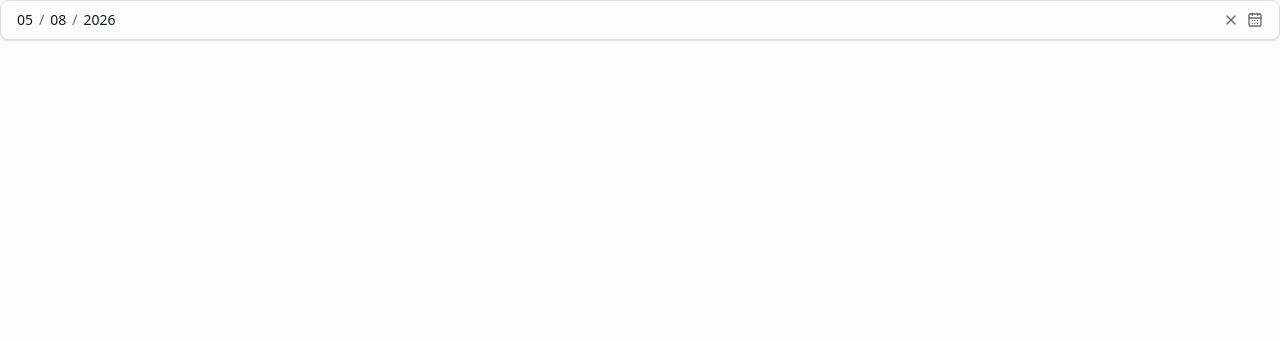
Test case: DateField calendar › picks a day from the calendar
This screenshot has width=1280, height=341.
What coordinates should you click on to do the following:
click the button named "Open the calendar"
I would click on:
 (1255, 20)
Its box is [1243,8,1267,32].
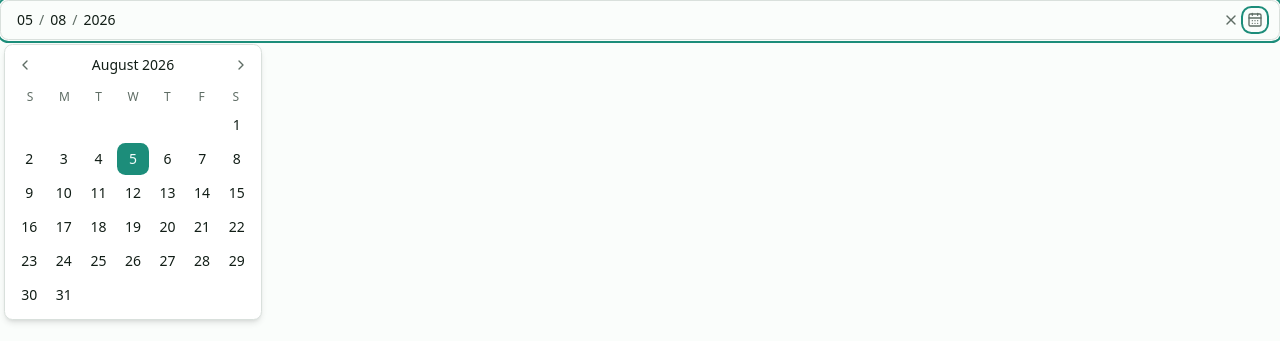
What coordinates should you click on to do the following:
click the button "17"
I would click on:
 (64, 227)
Its box is [48,211,80,243].
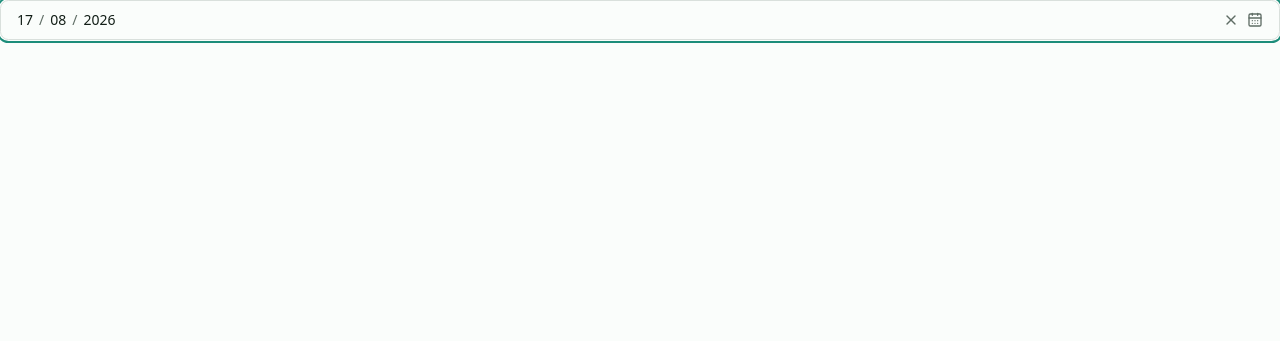
Result: the field named "Day" holds "17" at [13,10,37,30]
